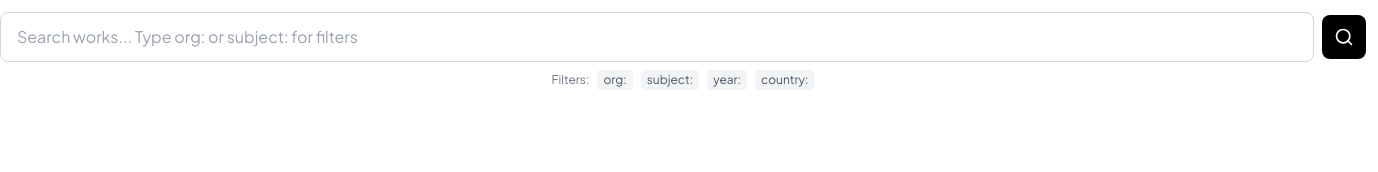
Test case: FieldedSearchBar › Filter Hint Buttons › clicking org: button activates org field mode
Click the button "org:": (615, 80) [597,70,633,90]
Wait 100 ms
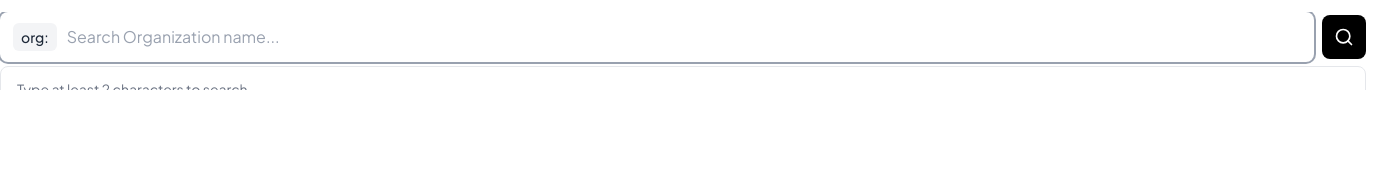
Expected: the field with placeholder "Search Organization name..." is shown, [63,21,1301,53]
